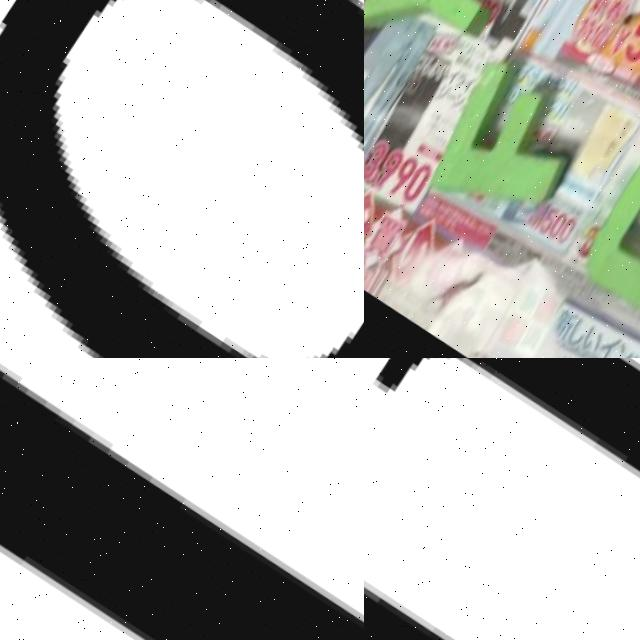C: (578, 128, 640, 326)
F: (419, 42, 611, 242)
L: (0, 358, 364, 640)
U: (364, 358, 640, 640)
Y: (364, 0, 526, 89)
